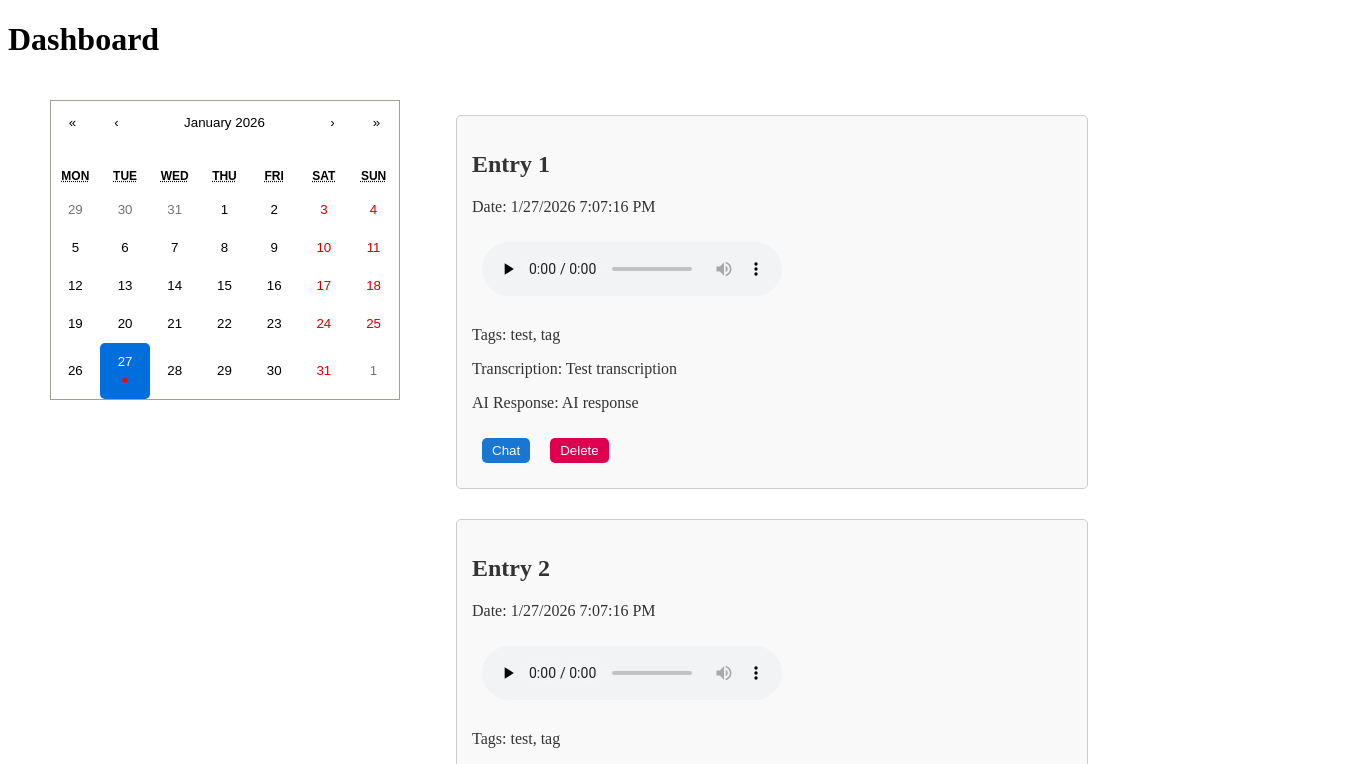
Dashboard Integration Tests - Complete User Flows › User Flow: Delete entry → Verify UI updates › should remove entry and update pagination
Check: the heading "Entry 1" is shown, box [472,151,550,177]
Check: the heading "Entry 2" is shown, box [472,555,550,581]
Delete first entry
Click the button "Delete": (579, 450) [550,438,609,463]
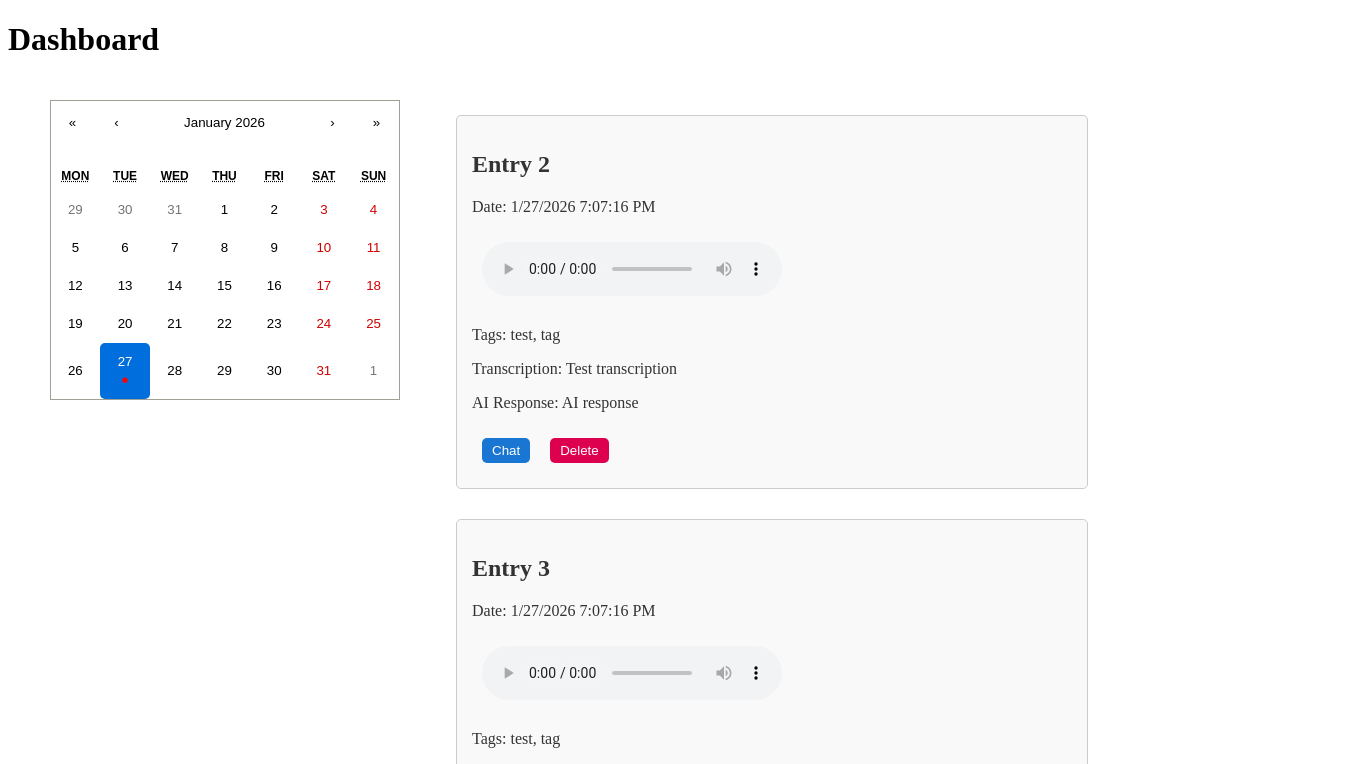
Check: the heading "Entry 2" is shown, box [472,151,550,177]
Check: the heading "Entry 1" is gone
